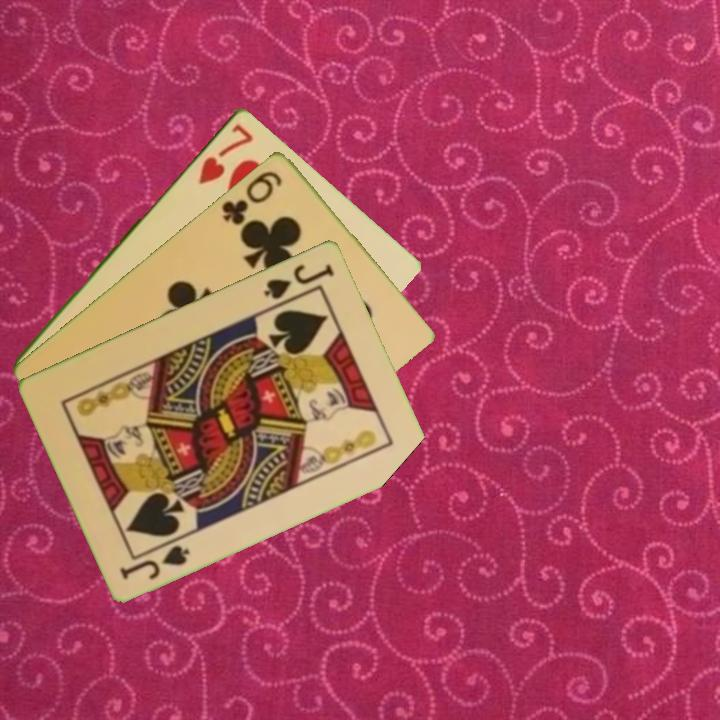6c: (218, 166, 285, 228)
7h: (194, 119, 256, 187)
Js: (260, 259, 338, 302), (116, 541, 193, 582)
